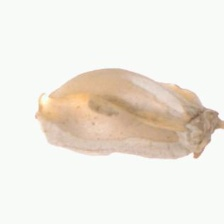L1: (189, 102, 219, 160), (35, 86, 61, 147)
L2: (36, 67, 219, 161)
